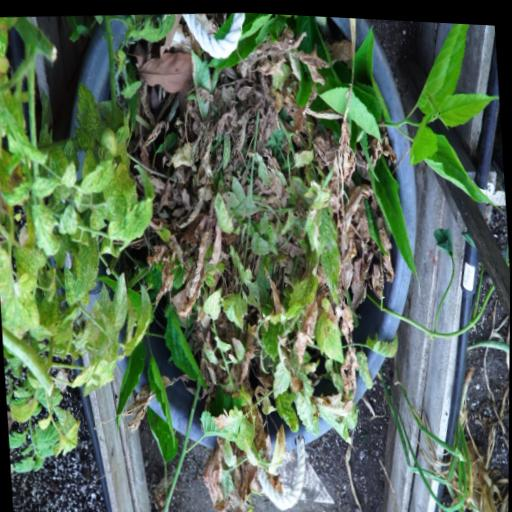Spider Mites: (103, 160, 162, 247), (0, 243, 43, 349), (84, 158, 133, 241), (60, 229, 102, 309), (315, 204, 345, 305), (71, 79, 107, 155), (121, 281, 156, 357), (314, 290, 346, 365), (292, 364, 322, 438), (123, 10, 179, 48), (282, 268, 322, 321), (12, 244, 52, 294), (189, 44, 214, 120), (30, 202, 61, 259), (211, 401, 247, 444), (78, 155, 116, 195), (106, 269, 130, 331), (52, 416, 85, 459), (221, 288, 250, 331), (275, 388, 302, 432), (259, 317, 285, 360), (229, 239, 254, 283), (37, 289, 62, 333), (365, 325, 400, 356), (100, 309, 122, 357), (70, 356, 100, 390), (9, 394, 41, 425), (213, 188, 234, 234), (0, 179, 32, 208), (73, 312, 95, 350), (356, 346, 375, 388), (202, 284, 224, 320), (31, 174, 62, 199), (57, 200, 78, 235), (222, 428, 239, 466), (58, 158, 78, 190), (220, 130, 233, 169), (293, 144, 316, 166), (279, 205, 295, 234), (245, 435, 259, 465), (231, 333, 247, 359), (257, 156, 271, 185), (214, 331, 233, 352), (330, 368, 346, 392), (250, 227, 262, 255), (256, 233, 271, 255)
